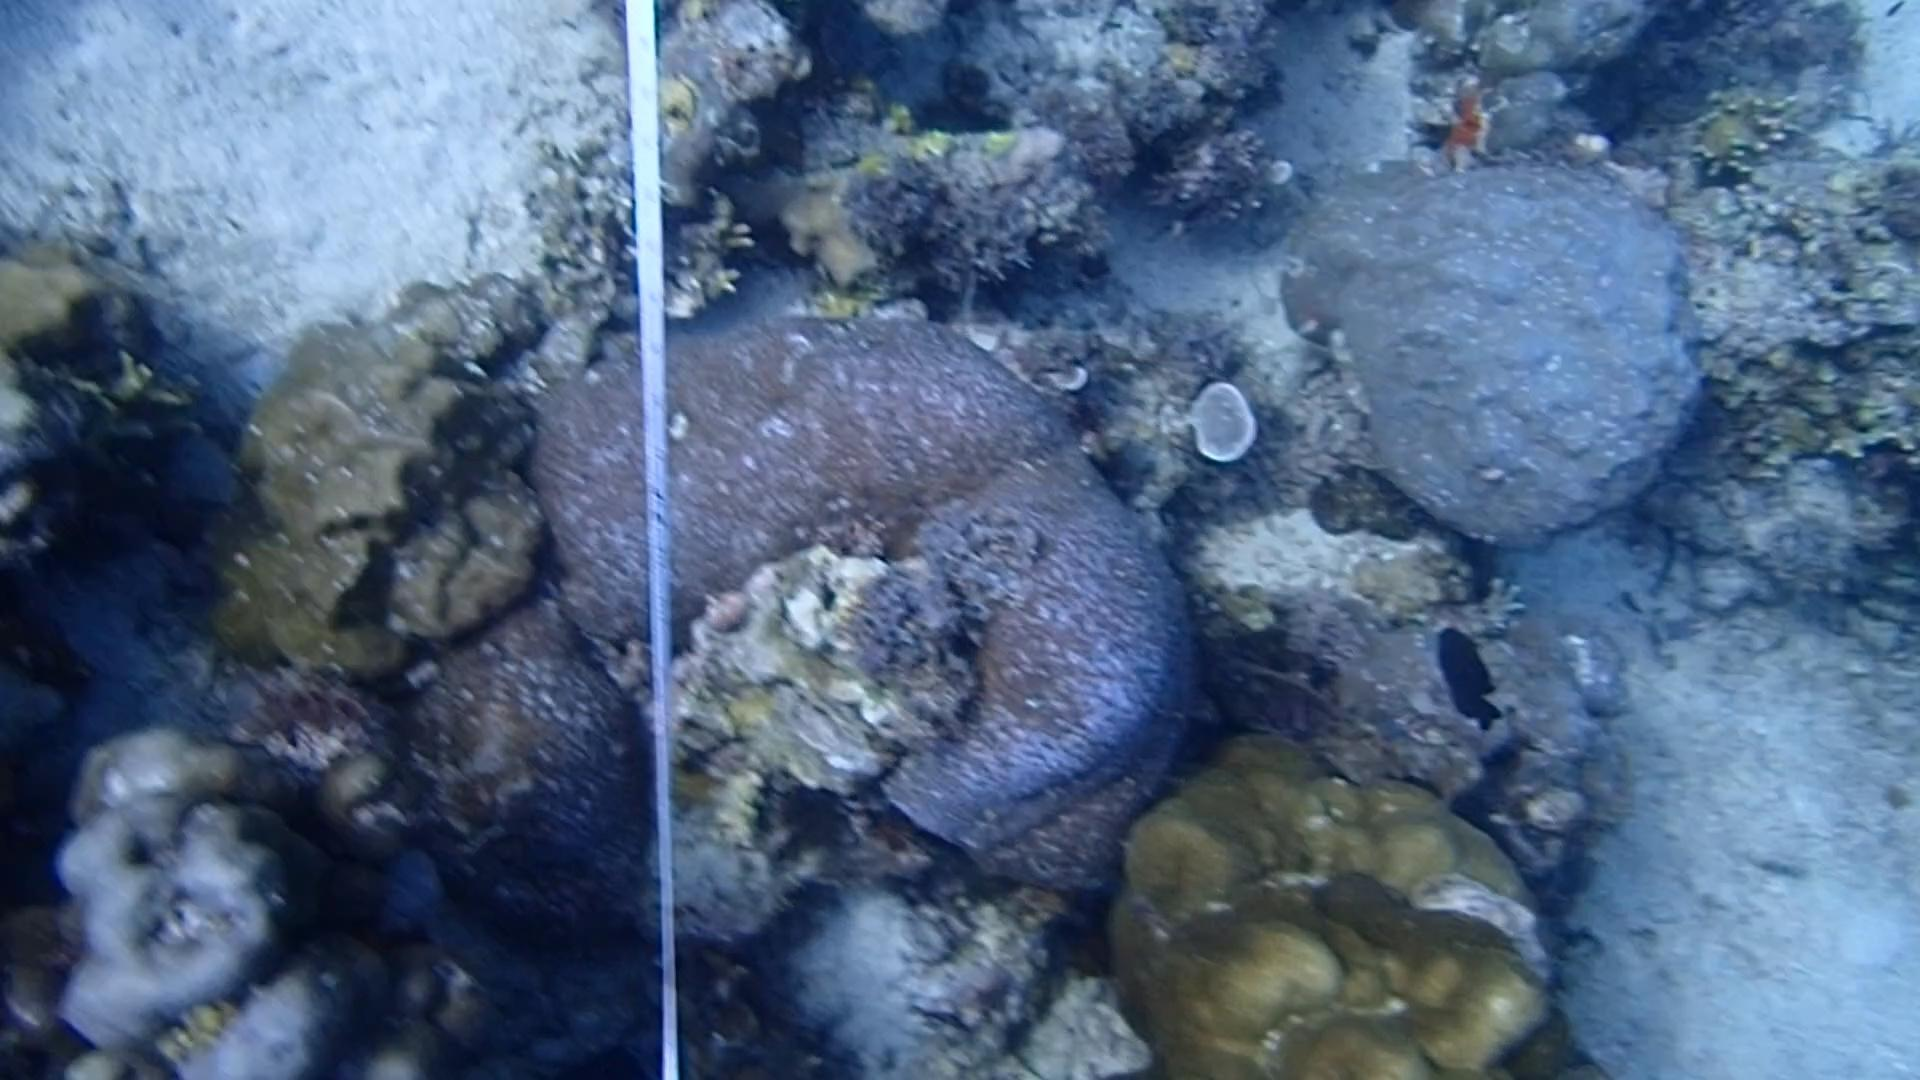Dark Fish: (1429, 620, 1509, 735)
